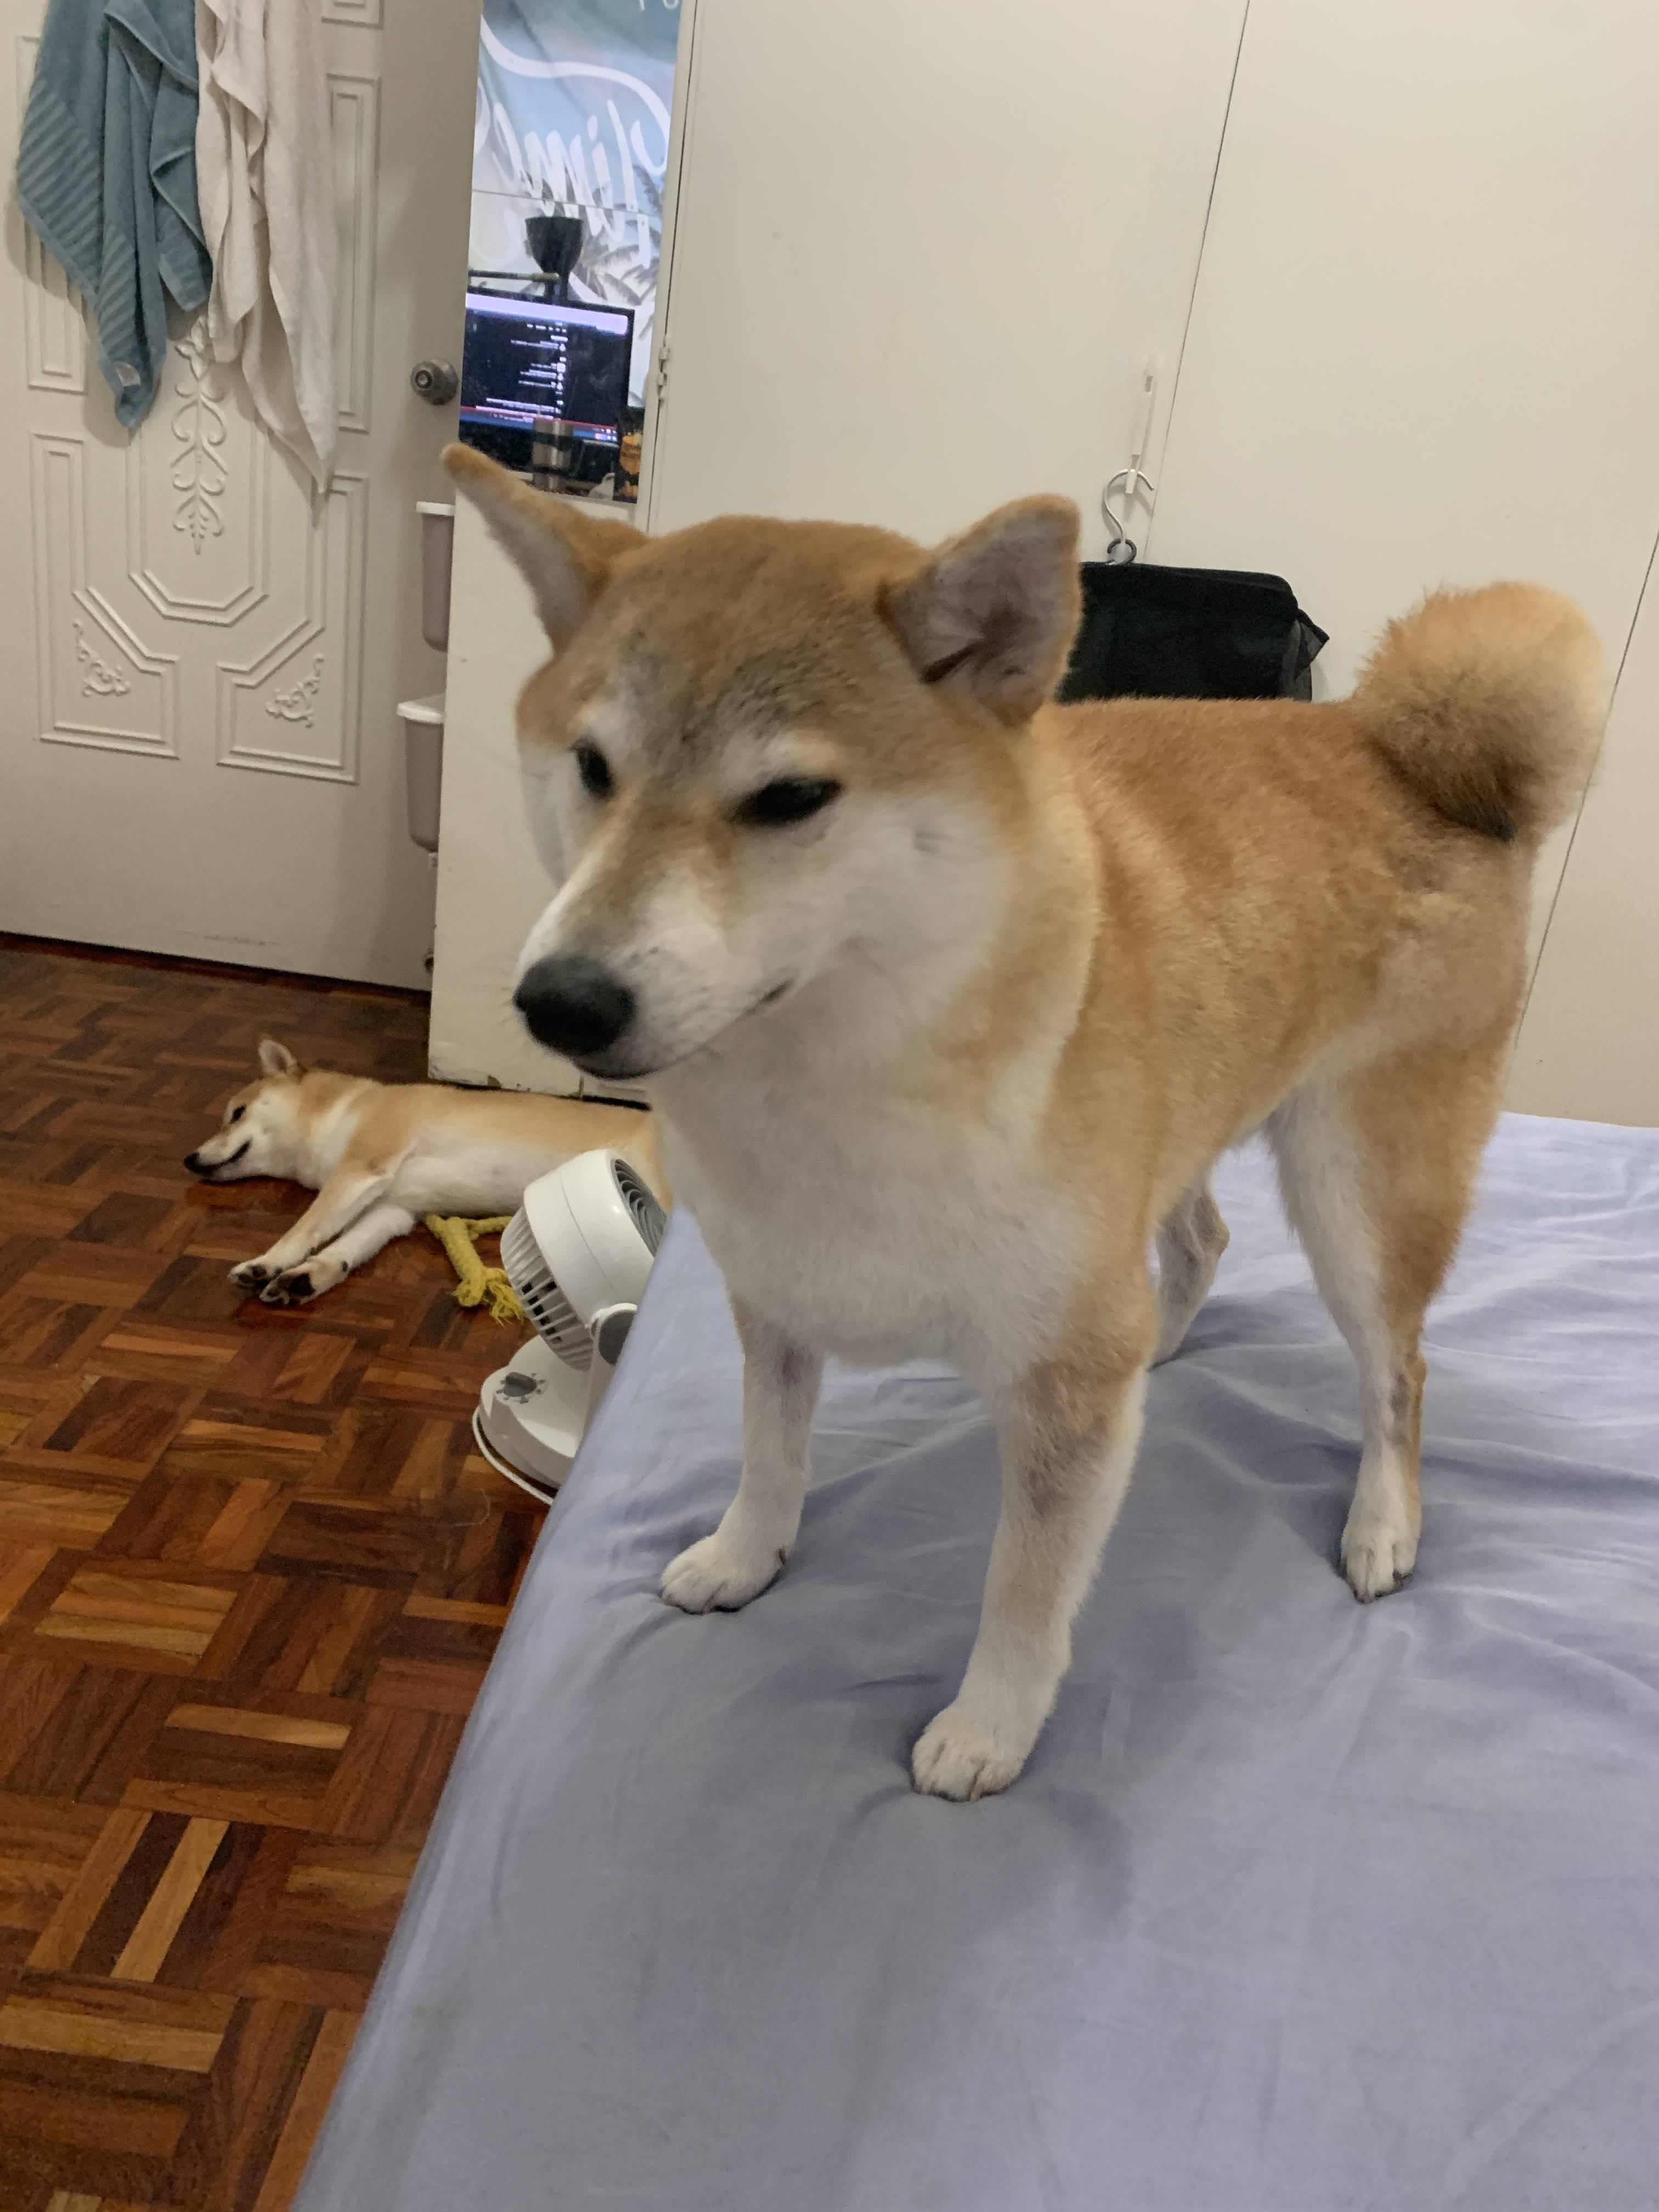Lie down: (167, 993, 652, 1379)
Stand up: (451, 425, 1608, 1844)
